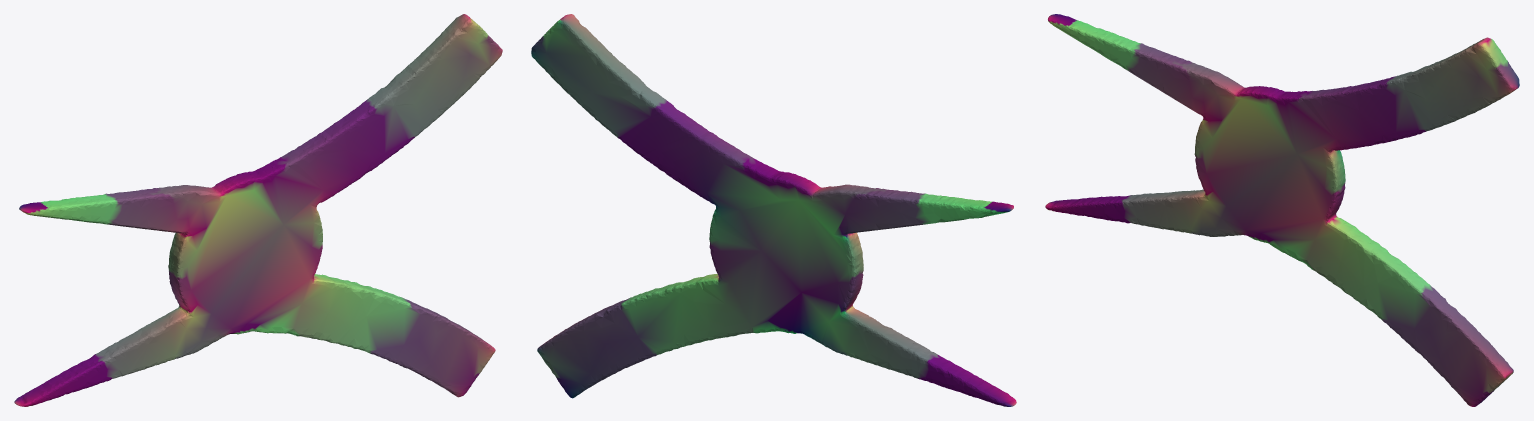
Rendered from scissor-9.off.obj.
3 renders of one model, left to right at view 1: azimuth 30°, elevation 25°; view 2: azimuth 150°, elevation 25°; view 3: azimuth 330°, elevation 25°, orthographic. The views are drawn at different scales.
Size of the model in its own units: 1.51 by 1.13 by 0.0572.
